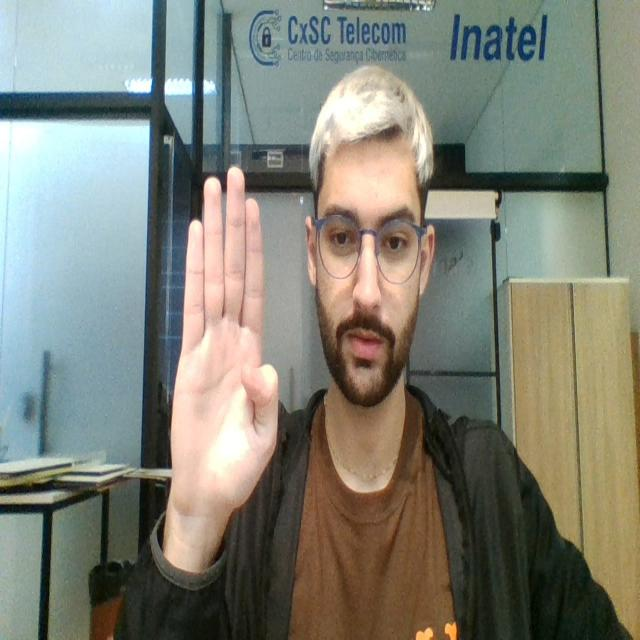B: (168, 167, 287, 525)
